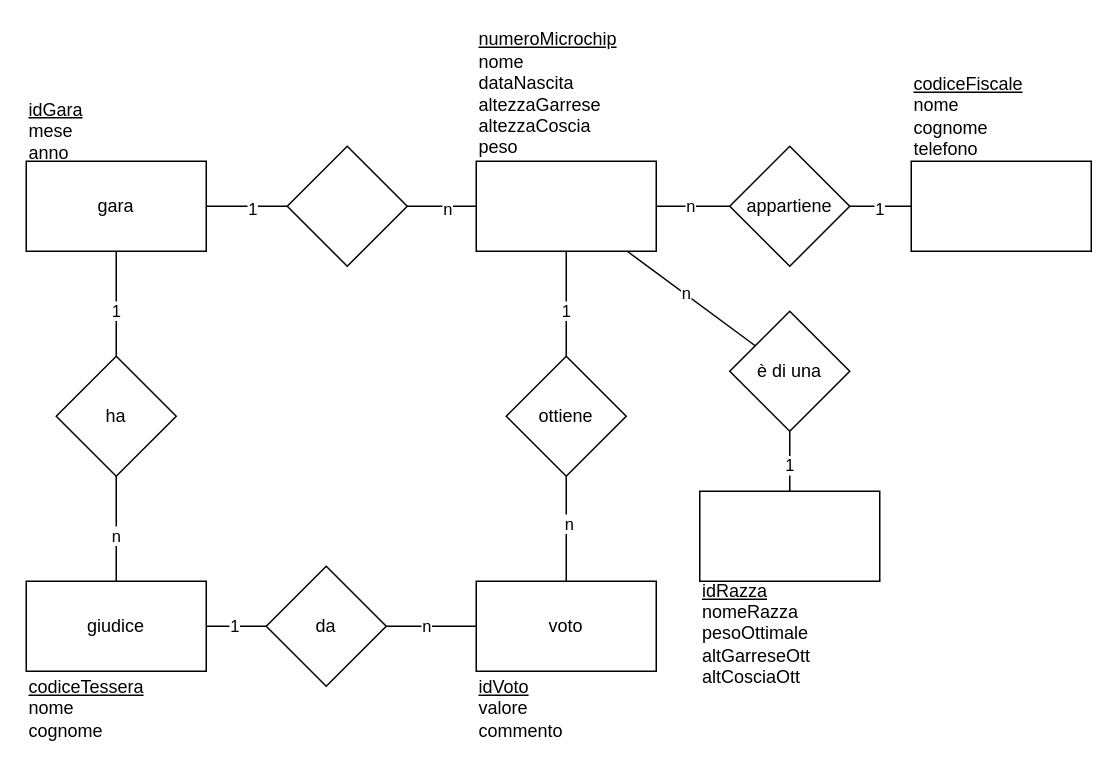
The diagram is 1118 pixels wide and 771 high, and some of its shapes have lost their labels. The shapes that lost their labels are listed below. From the top down, each one's box as (x1, y1, x2, y2) in pixels, then its label:
(286, 145, 407, 266): è iscritto
(475, 160, 656, 251): cane
(910, 160, 1091, 251): proprietario
(698, 490, 880, 581): razza
